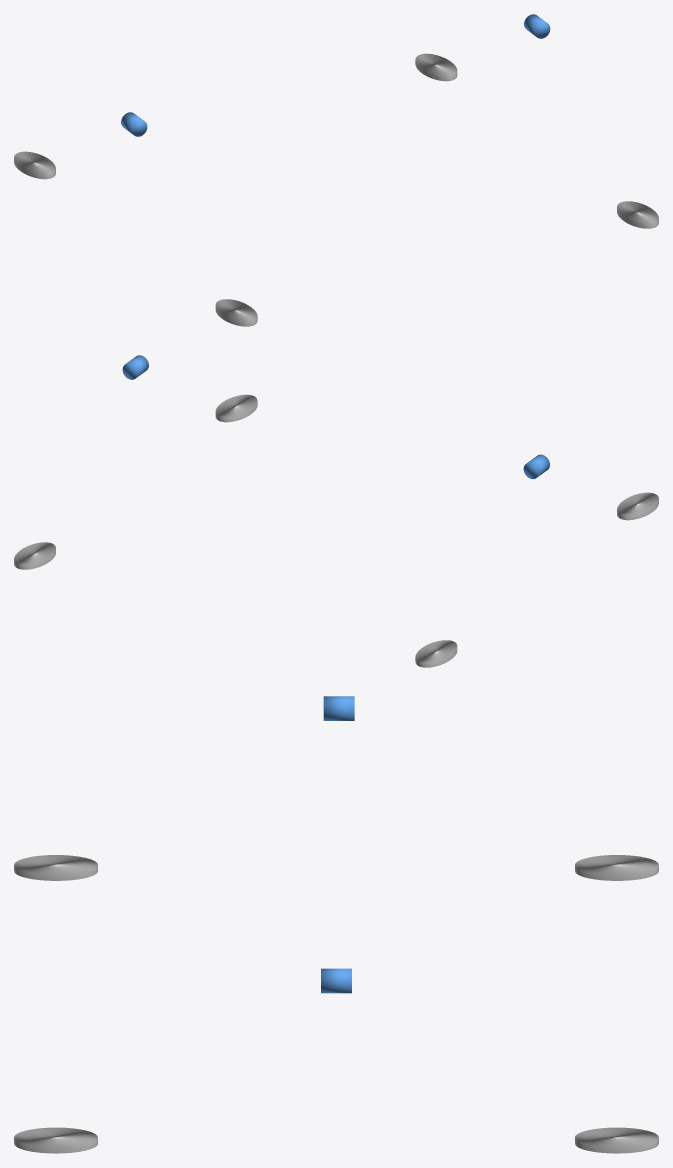
File: bismillah.glb
The picture shows the model from 3 angles, top to bottom: view 1: azimuth 30°, elevation 25°; view 2: azimuth 150°, elevation 25°; view 3: azimuth 270°, elevation 25°; orthographic projection. The views are drawn at different scales.
Parts seen in each view (by area): view 1: Foot_Back_-0.575, Foot_Front_0.575, Foot_Front_-0.575, Foot_Back_0.575; view 2: Foot_Front_-0.575, Foot_Back_0.575, Foot_Back_-0.575, Foot_Front_0.575; view 3: Foot_Front_0.575, Foot_Back_0.575, Foot_Front_-0.575, Foot_Back_-0.575, Connector_Blue.001, Connector_Blue.
Boxes of the visible parts, x1=… form: Foot_Back_-0.575: x1=215, y1=299, x2=257, y2=326; Foot_Front_0.575: x1=415, y1=53, x2=457, y2=81; Foot_Front_-0.575: x1=14, y1=151, x2=55, y2=179; Foot_Back_0.575: x1=617, y1=201, x2=658, y2=228; Foot_Front_-0.575: x1=415, y1=640, x2=457, y2=667; Foot_Back_0.575: x1=215, y1=394, x2=257, y2=422; Foot_Back_-0.575: x1=617, y1=492, x2=658, y2=520; Foot_Front_0.575: x1=14, y1=542, x2=55, y2=569; Foot_Front_0.575: x1=575, y1=1127, x2=658, y2=1153; Foot_Back_0.575: x1=14, y1=1127, x2=97, y2=1153; Foot_Front_-0.575: x1=575, y1=855, x2=658, y2=880; Foot_Back_-0.575: x1=14, y1=855, x2=97, y2=880; Connector_Blue.001: x1=321, y1=968, x2=351, y2=993; Connector_Blue: x1=323, y1=696, x2=354, y2=720.
Bounding box in the file's own units: 1.23 × 0.342 × 1.15.
